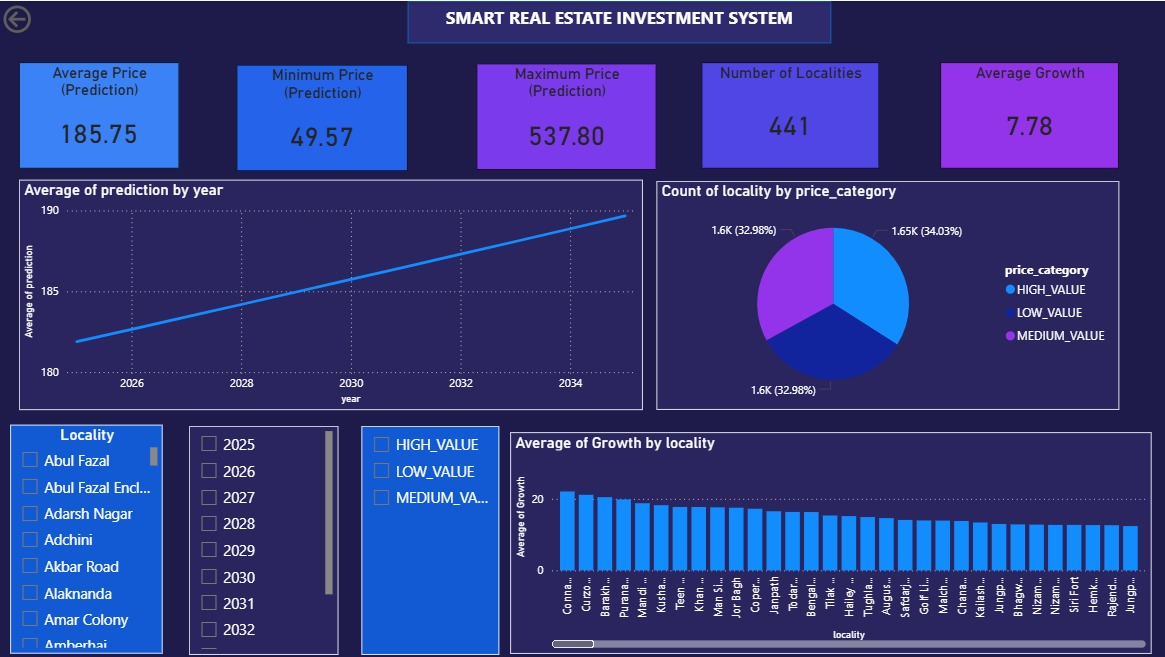

What the dashboard file says about the page in this screenshot:
{"tool":"powerbi","page":{"name":"Page 1","canvas":[1280,720],"ordinal":0},"visuals":[{"type":"textbox","box":[448.7,0,465.2,46.7],"z":0},{"type":"card","title":"Average Price (Prediction)","fields":{"Values":["Avg(ef4e85e7-f7c4-4c48-8d46-932349c.prediction)"]},"box":[22,67.2,175.6,116.6],"z":1000},{"type":"card","title":"Minimum Price (Prediction)","fields":{"Values":["Min(ef4e85e7-f7c4-4c48-8d46-932349c.prediction)"]},"box":[260.7,70,188,116.6],"z":2000},{"type":"card","title":"Maximum Price (Prediction)","fields":{"Values":["Max(ef4e85e7-f7c4-4c48-8d46-932349c.prediction)"]},"box":[524.2,68.6,197.6,116.6],"z":3000},{"type":"card","title":"Number of Localities","fields":{"Values":["Count(ef4e85e7-f7c4-4c48-8d46-932349c.locality)"]},"box":[771.2,67.2,194.9,116.6],"z":4000},{"type":"lineChart","fields":{"Category":["ef4e85e7-f7c4-4c48-8d46-932349c.year"],"Y":["Avg(ef4e85e7-f7c4-4c48-8d46-932349c.prediction)"]},"box":[22,196.2,684.7,252.5],"z":5000},{"type":"pieChart","fields":{"Category":["ef4e85e7-f7c4-4c48-8d46-932349c.price_category"],"Y":["CountNonNull(ef4e85e7-f7c4-4c48-8d46-932349c.locality)"]},"box":[721.8,197.6,507.7,251.1],"z":6000},{"type":"slicer","title":"Locality","fields":{"Values":["ef4e85e7-f7c4-4c48-8d46-932349c.locality"]},"box":[12.3,465.2,167.4,251.1],"z":7000},{"type":"slicer","fields":{"Values":["ef4e85e7-f7c4-4c48-8d46-932349c.year"]},"box":[208.8,466.2,163.8,251.2],"z":8000},{"type":"slicer","fields":{"Values":["ef4e85e7-f7c4-4c48-8d46-932349c.price_category"]},"box":[397.5,466.2,151.2,251.2],"z":9000},{"type":"clusteredColumnChart","fields":{"Category":["delhi_realestate.locality"],"Y":["Avg(delhi_realestate.Growth)"]},"box":[561.2,473.4,703.9,242.9],"z":10000},{"type":"card","title":"Average Growth","fields":{"Values":["Avg(delhi_realestate.Growth)"]},"box":[1033.3,67.2,196.2,116.6],"z":11000},{"type":"actionButton","box":[0,0,100,40],"z":12000}]}

Visuals, with their boxes in screenshot pixels (x1, y1, x2, y2), scaled from the page's 1280x720 canvas onto the 1165x657 screenshot:
textbox: locate(408, 0, 832, 43)
"Average Price (Prediction)" card: locate(20, 61, 180, 168)
"Minimum Price (Prediction)" card: locate(237, 64, 408, 170)
"Maximum Price (Prediction)" card: locate(477, 63, 657, 169)
"Number of Localities" card: locate(702, 61, 879, 168)
lineChart - ef4e85e7-f7c4-4c48-8d46-932349c.year x Avg(ef4e85e7-f7c4-4c48-8d46-932349c.prediction): locate(20, 179, 643, 409)
pieChart - ef4e85e7-f7c4-4c48-8d46-932349c.price_category x CountNonNull(ef4e85e7-f7c4-4c48-8d46-932349c.locality): locate(657, 180, 1119, 409)
"Locality" slicer: locate(11, 424, 164, 654)
slicer - ef4e85e7-f7c4-4c48-8d46-932349c.year: locate(190, 425, 339, 655)
slicer - ef4e85e7-f7c4-4c48-8d46-932349c.price_category: locate(362, 425, 499, 655)
clusteredColumnChart - delhi_realestate.locality x Avg(delhi_realestate.Growth): locate(511, 432, 1151, 654)
"Average Growth" card: locate(940, 61, 1119, 168)
actionButton: locate(0, 0, 91, 36)
